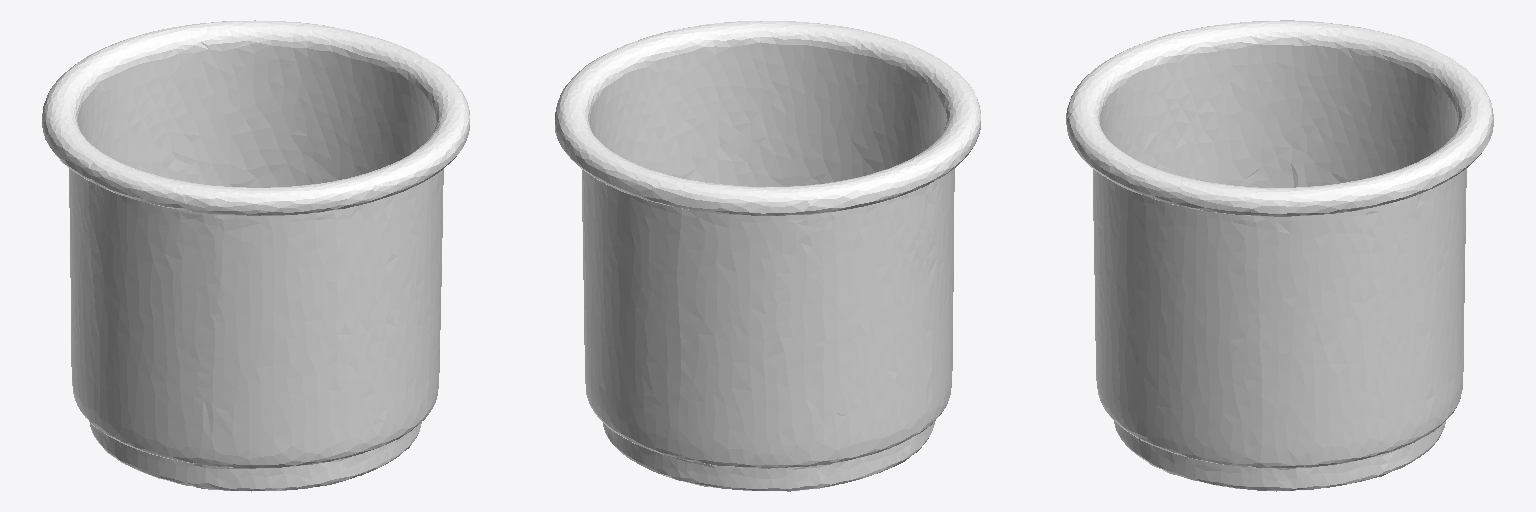
URDF robot description (013_apple):
<robot name="013_apple">
	<link name="_name">
		<visual>
			<origin xyz="-0.013105802251075094 0.03861242636253375 -0.3633673271131293" rpy="0 0 0" />
			<geometry>
				<mesh filename="013_apple/google_16k/textured.obj" scale="10 10 10" />
			</geometry>
			<material name="texture">
				<color rgba="1.0 1.0 1.0 1.0" />
			</material>
		</visual>
		<collision>
			<geometry>
				<mesh filename="013_apple/google_16k/textured_vhacd.obj" scale="10 10 10" />
			</geometry>
		<origin xyz="-0.013105802251075094 0.03861242636253375 -0.3633673271131293" rpy="0 0 0" /></collision>
		<inertial>
			<mass value="1.0" />
			<inertia ixx="1.0" ixy="0.0" ixz="0.0" iyy="1.0" iyz="0.0" izz="1.0" />
		</inertial>
	</link>
</robot>

--- Render facts (derived) ---
3 views of the same robot in one strip: view 1: azimuth 30°, elevation 25°; view 2: azimuth 150°, elevation 25°; view 3: azimuth 270°, elevation 25° (orthographic).
Robot: 013_apple — 1 links, 0 joints (none); root link _name; default pose: every joint at zero.
Links seen in each view (by area): view 1: _name; view 2: _name; view 3: _name.
Link boxes in pixels (x1,y1,x2,y2): _name: (42,20,469,491); _name: (555,20,980,491); _name: (1066,20,1493,491).
Size in the robot's own frame: 0.915 by 0.9162 by 0.7506 metres.
Meshes: 1 distinct files referenced, 1 mesh visuals loaded (1 OBJ).